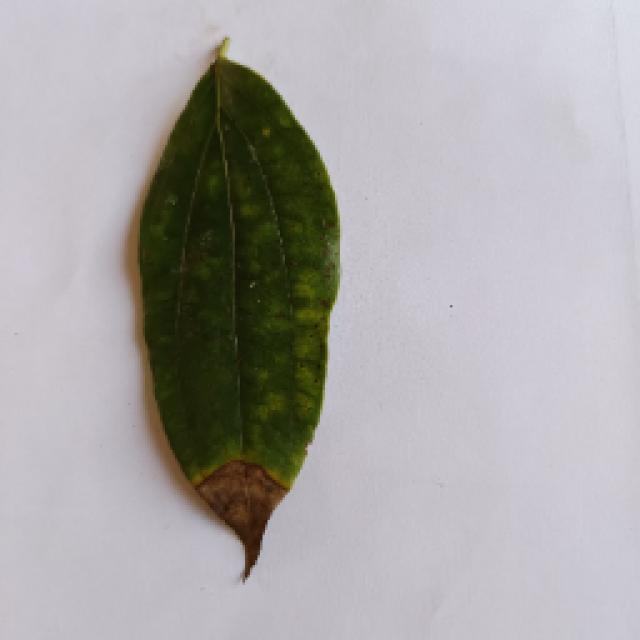footrot: (130, 43, 340, 585)
